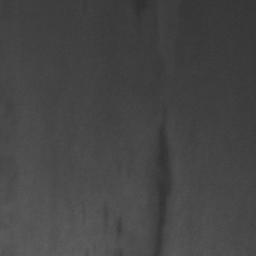Inclusion: (155, 127, 172, 255)
